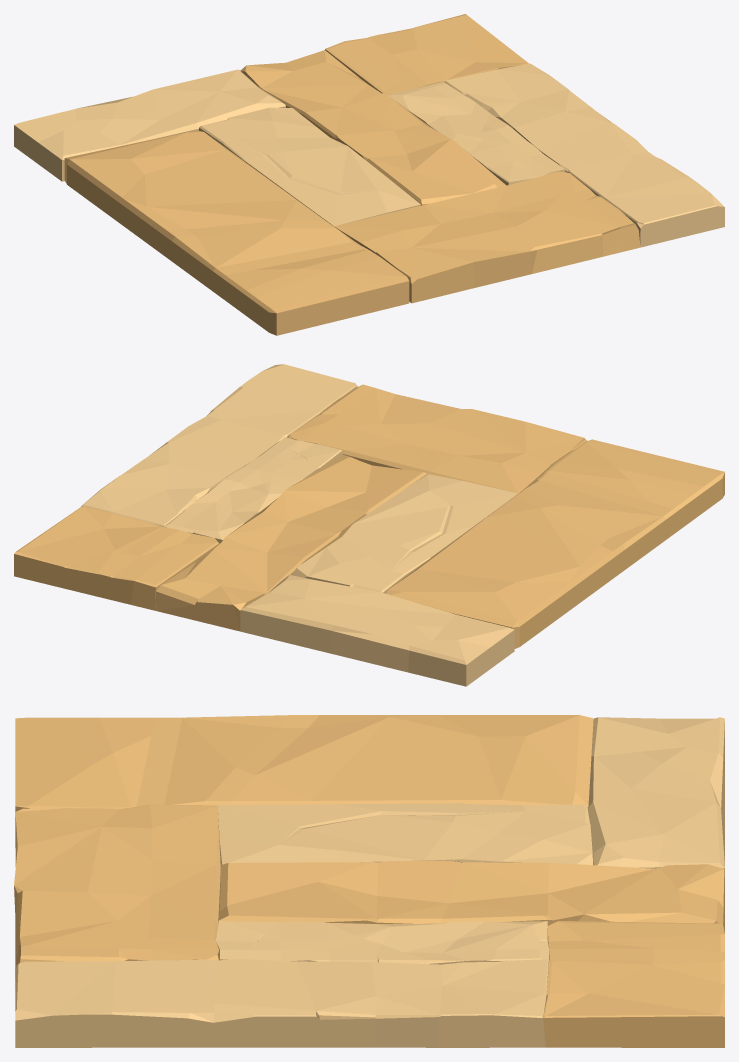
The model's file is Sulimo_Paved_Road_old.fbx.
3 renders of one model, top to bottom at view 1: azimuth 30°, elevation 25°; view 2: azimuth 150°, elevation 25°; view 3: azimuth 270°, elevation 25°, orthographic. The views are drawn at different scales.
Parts seen in each view (by area): view 1: Cube.007, Cube.003, Cube.001, Cube.006, Cube.008, Cube.005, Cube.002, Cube.004; view 2: Cube.007, Cube.006, Cube.005, Cube.003, Cube.001, Cube.002, Cube.008, Cube.004; view 3: Cube.007, Cube.001, Cube.003, Cube.006, Cube.002, Cube.008, Cube.005, Cube.004.
Boxes of the visible parts, left/top/right/bottom form: Cube.007: left=64, top=130, right=409, bottom=335; Cube.003: left=334, top=171, right=640, bottom=303; Cube.001: left=444, top=63, right=724, bottom=247; Cube.006: left=240, top=50, right=506, bottom=205; Cube.008: left=199, top=107, right=421, bottom=226; Cube.005: left=14, top=69, right=285, bottom=181; Cube.002: left=325, top=14, right=528, bottom=94; Cube.004: left=388, top=81, right=565, bottom=185; Cube.007: left=386, top=439, right=724, bottom=648; Cube.006: left=155, top=455, right=427, bottom=631; Cube.005: left=240, top=575, right=514, bottom=686; Cube.003: left=287, top=384, right=587, bottom=493; Cube.001: left=81, top=364, right=358, bottom=526; Cube.002: left=14, top=506, right=219, bottom=610; Cube.008: left=293, top=474, right=518, bottom=593; Cube.004: left=164, top=437, right=342, bottom=543; Cube.007: left=15, top=715, right=593, bottom=811; Cube.001: left=15, top=959, right=548, bottom=1047; Cube.003: left=14, top=804, right=220, bottom=989; Cube.006: left=218, top=861, right=724, bottom=933; Cube.002: left=543, top=921, right=724, bottom=1047; Cube.008: left=217, top=803, right=592, bottom=871; Cube.005: left=588, top=717, right=724, bottom=884; Cube.004: left=215, top=921, right=549, bottom=964.
Size of the model in its own units: 400 by 25.98 by 401.
